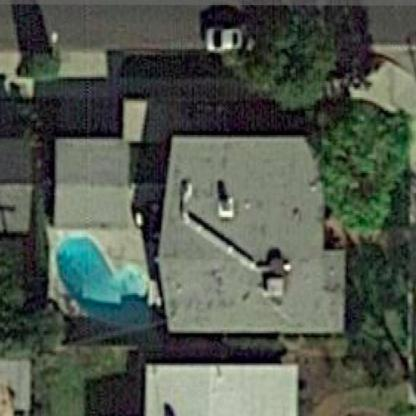car: (201, 16, 270, 62)
swimming_pool: (47, 222, 162, 340)
